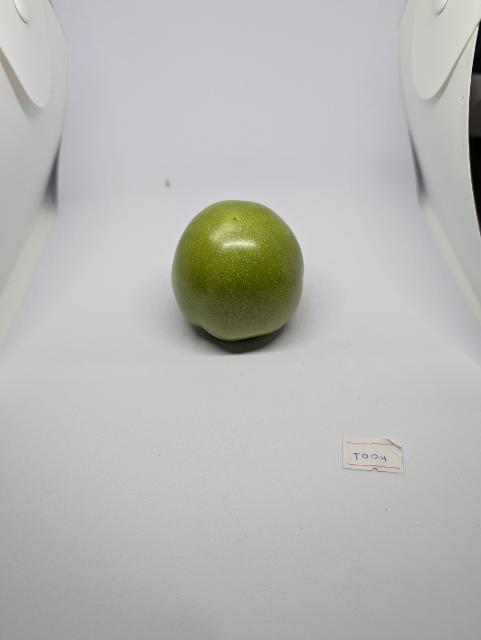green: (170, 199, 308, 342)
